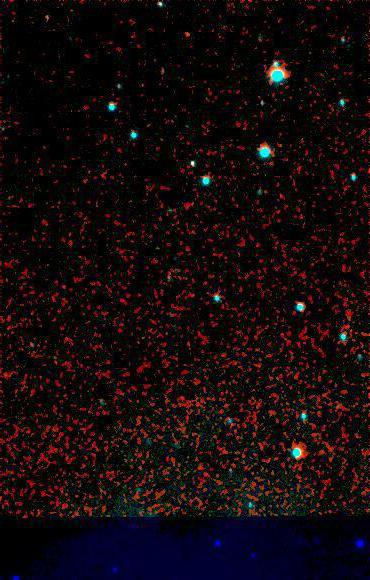star: (175, 18, 205, 48)
